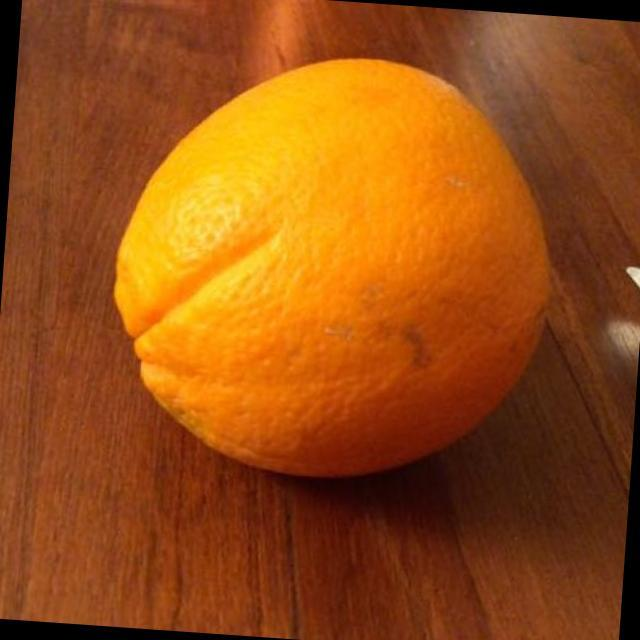Orange: (87, 26, 580, 512)
